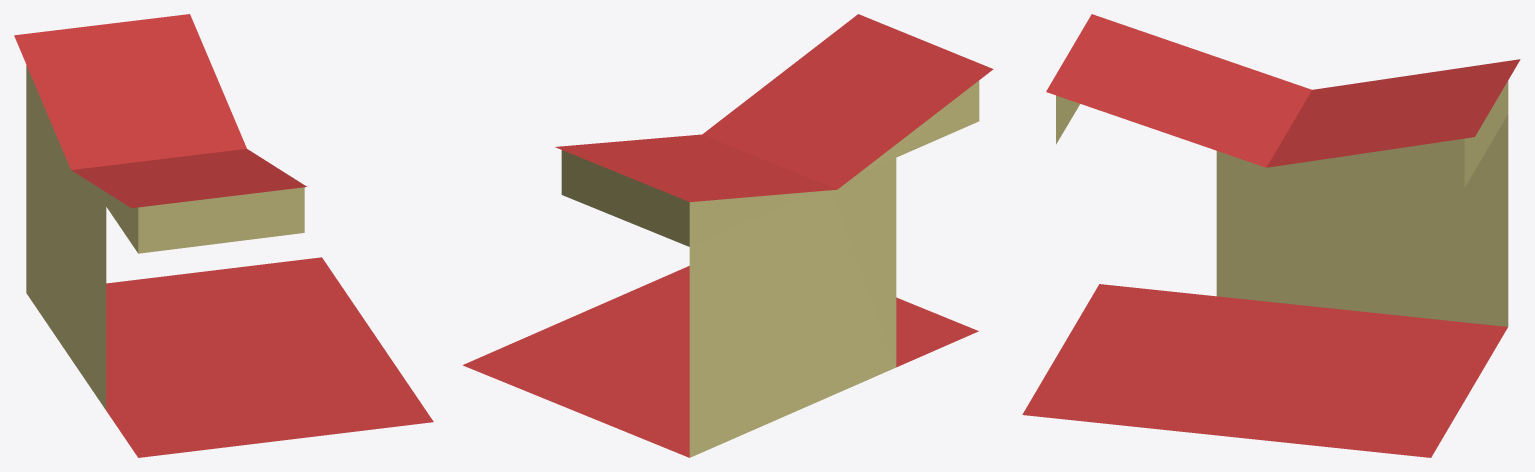
3 renders of one model, left to right at view 1: azimuth 30°, elevation 25°; view 2: azimuth 150°, elevation 25°; view 3: azimuth 270°, elevation 25°, orthographic. The views are drawn at different scales.
Size of the model in its own units: 10.23 by 12.03 by 7.04.
